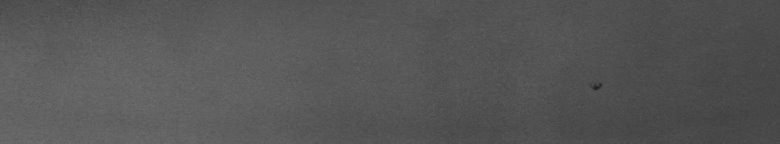fi: (589, 76, 603, 96)
